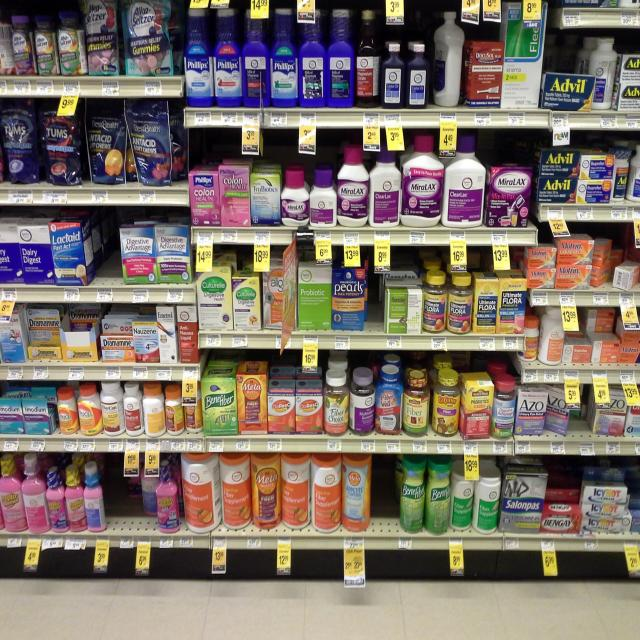void: (375, 454, 393, 528), (95, 224, 116, 279)
